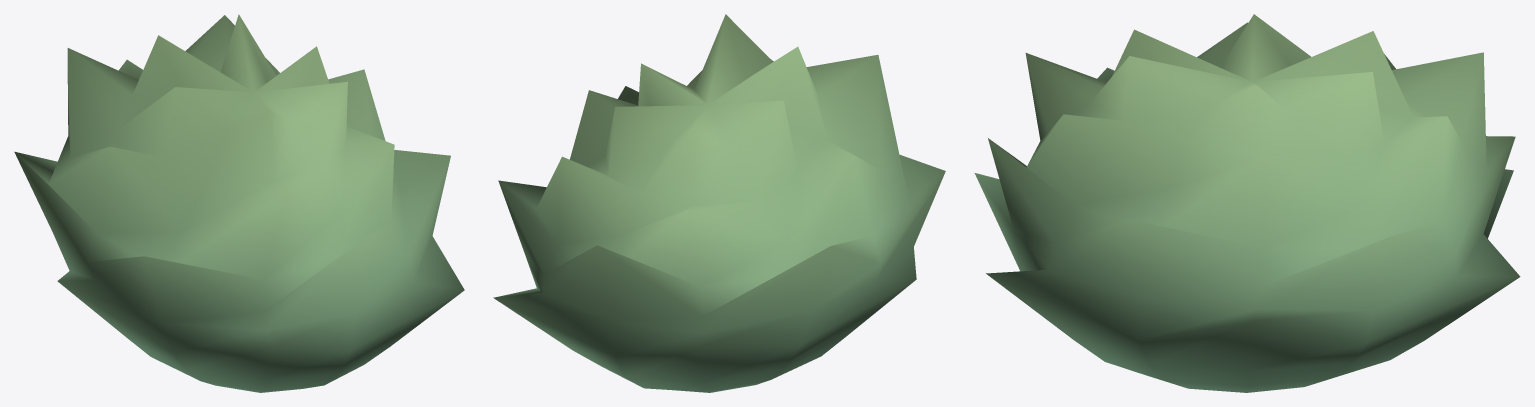
Rendered from Desert_Bush.fbx.
The picture shows the model from 3 angles, left to right: view 1: azimuth 30°, elevation 25°; view 2: azimuth 150°, elevation 25°; view 3: azimuth 270°, elevation 25°; orthographic projection. The views are drawn at different scales.
Visible parts, largest first — view 1: Bush; view 2: Bush; view 3: Bush.
Boxes of the visible parts, <box> form: Bush: <box>14,14,464,392</box>; Bush: <box>493,14,945,392</box>; Bush: <box>974,14,1520,392</box>.
Bounding box in the file's own units: 0.0345 × 0.0261 × 0.0378.
1 material, 1 textured.
